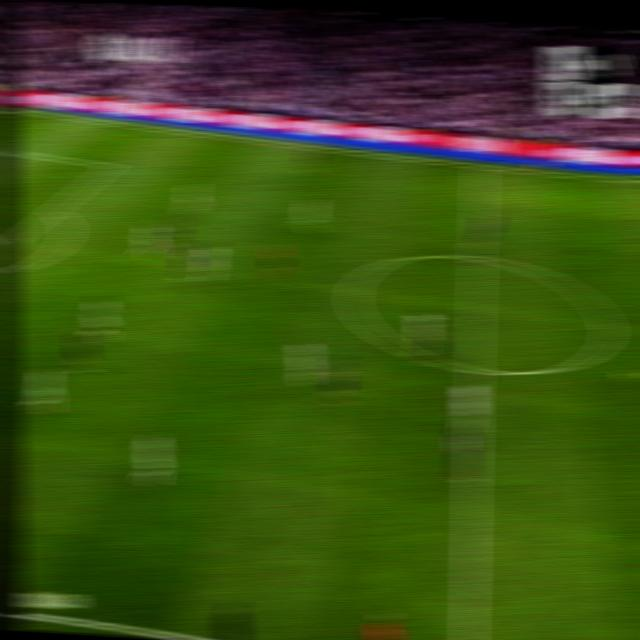bigarea_top_inner: (102, 158, 120, 173)
corner: (7, 103, 25, 113)
halfcircle_bottom: (461, 353, 488, 384)
halfcircle_top: (465, 244, 490, 269)
midline_top_intersection: (470, 158, 489, 174)
top_arc_area_intersection: (44, 201, 64, 217)
